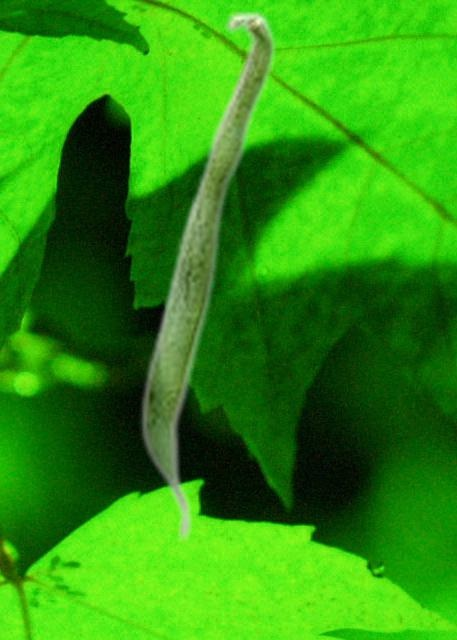french_bean: (139, 9, 276, 544)
